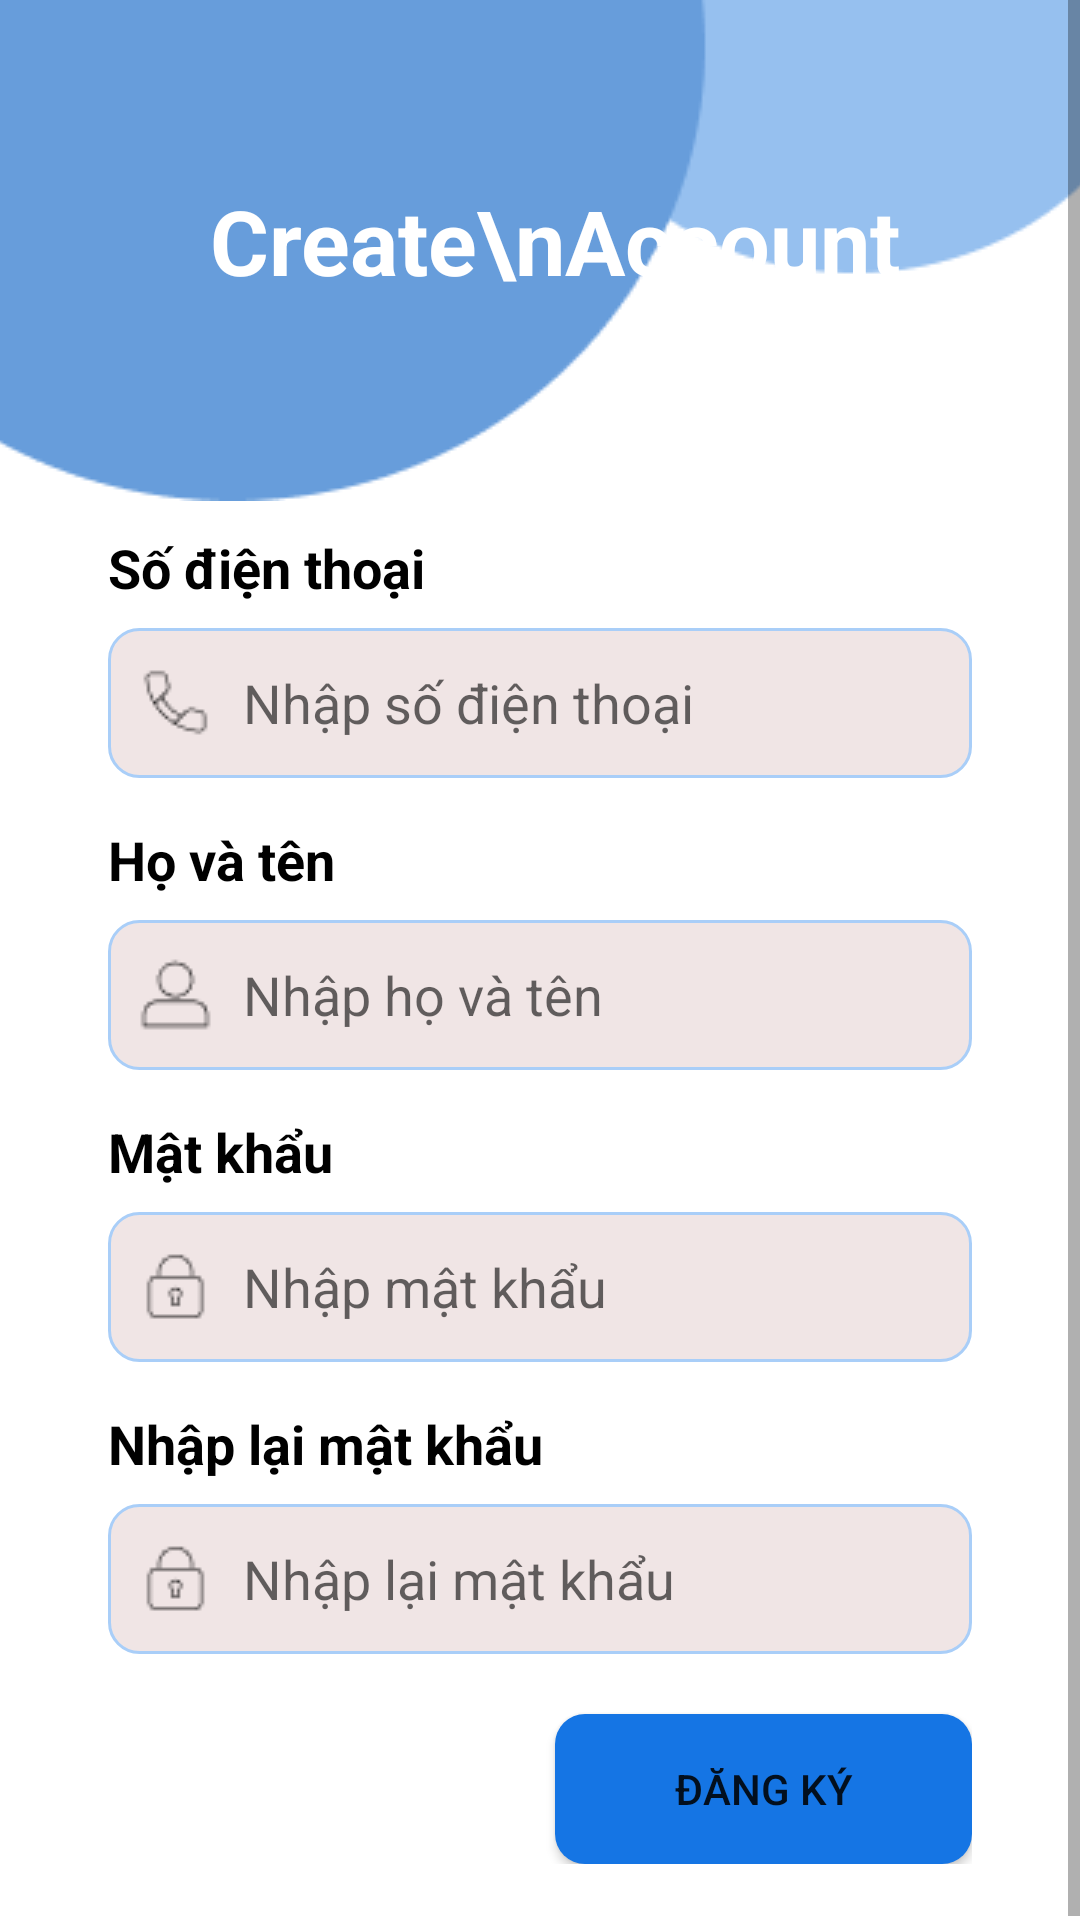

Locate icon controls on the screen. Image size 1080 x 1920, boxes as (x1, y1, x2, y2).
Password Icon: (146, 1254, 205, 1319), (146, 1546, 205, 1611)
Phone Icon: (143, 670, 208, 735)
User Icon: (141, 960, 210, 1029)
